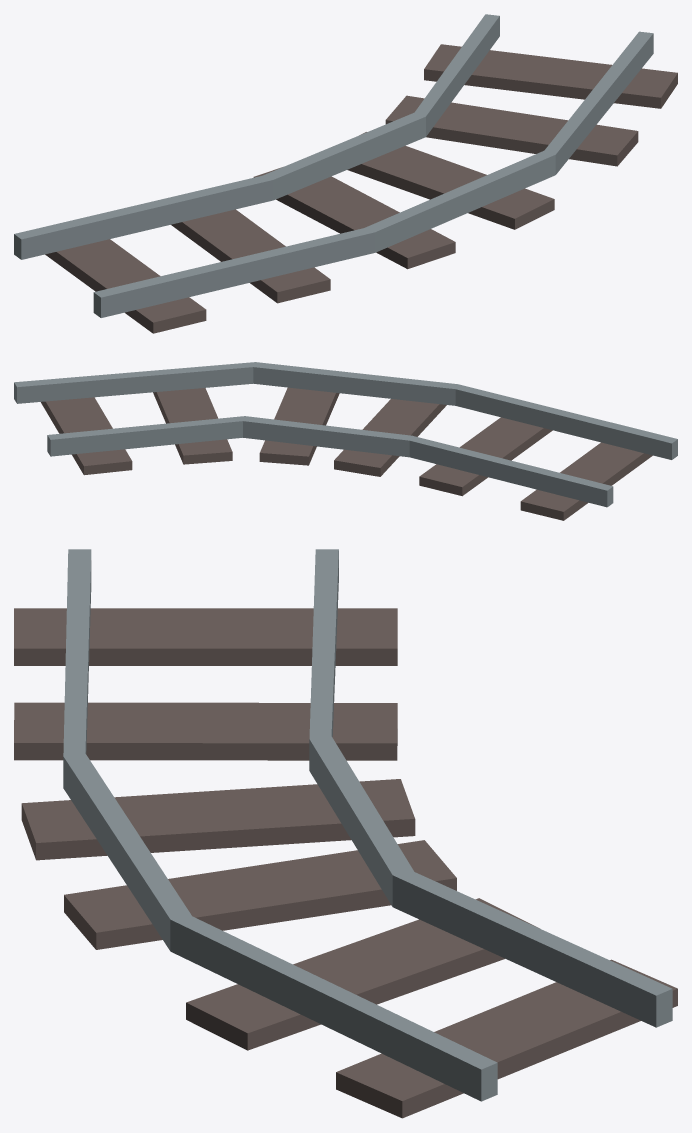
The model's file is Rail-D02.fbx.
The picture shows the model from 3 angles, top to bottom: view 1: azimuth 30°, elevation 25°; view 2: azimuth 150°, elevation 25°; view 3: azimuth 270°, elevation 25°; orthographic projection. The views are drawn at different scales.
Visible parts, largest first — view 1: Rail-D02; view 2: Rail-D02; view 3: Rail-D02.
Part boxes in pixels (<box>): Rail-D02: <box>14,14,677,333</box>; Rail-D02: <box>14,362,677,520</box>; Rail-D02: <box>14,549,677,1118</box>.
Bounding box in the file's own units: 632 × 28.05 × 341.
